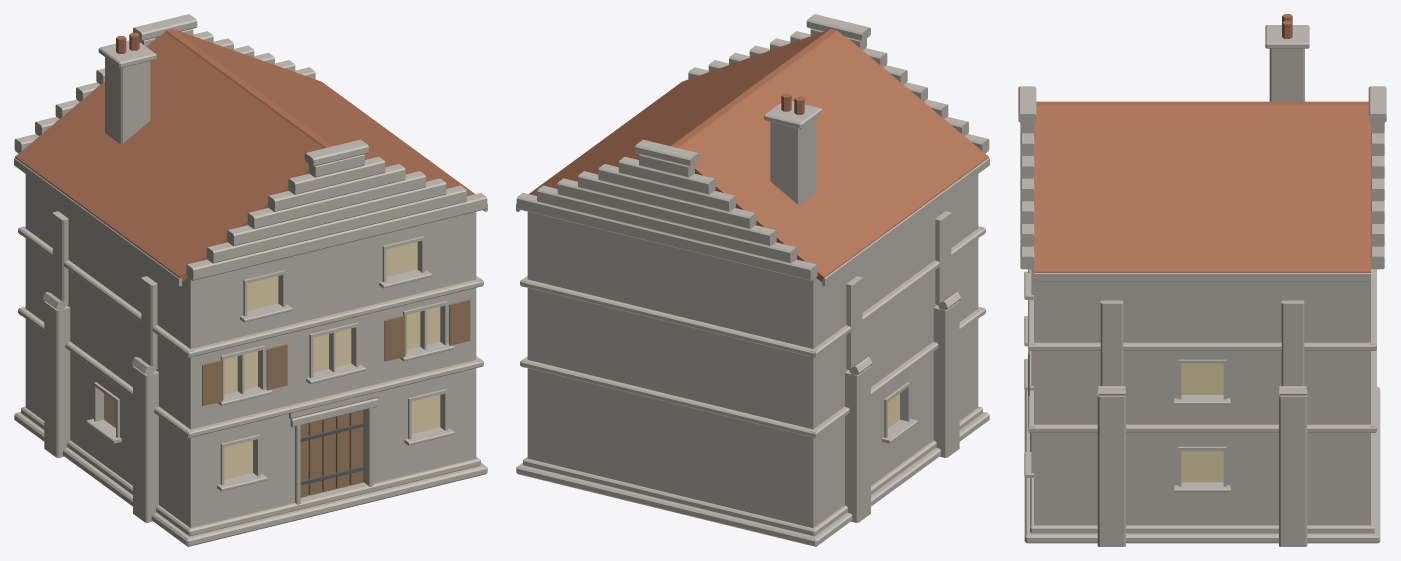
Rendered from house_stone_b.glb.
3 renders of one model, left to right at view 1: azimuth 30°, elevation 25°; view 2: azimuth 150°, elevation 25°; view 3: azimuth 270°, elevation 25°, orthographic. The views are drawn at different scales.
Parts seen in each view (by area): view 1: house_stone_b; view 2: house_stone_b; view 3: house_stone_b.
Part boxes in pixels (x1=…): house_stone_b: x1=14, y1=14, x2=487, y2=546; house_stone_b: x1=516, y1=14, x2=989, y2=546; house_stone_b: x1=1018, y1=14, x2=1386, y2=546.
Bounding box in the file's own units: 13.09 × 15.96 × 13.02.
